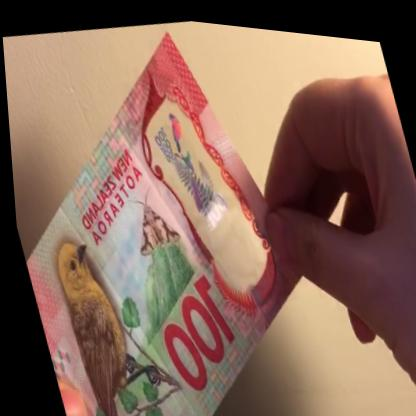100B: (143, 92, 238, 248)
